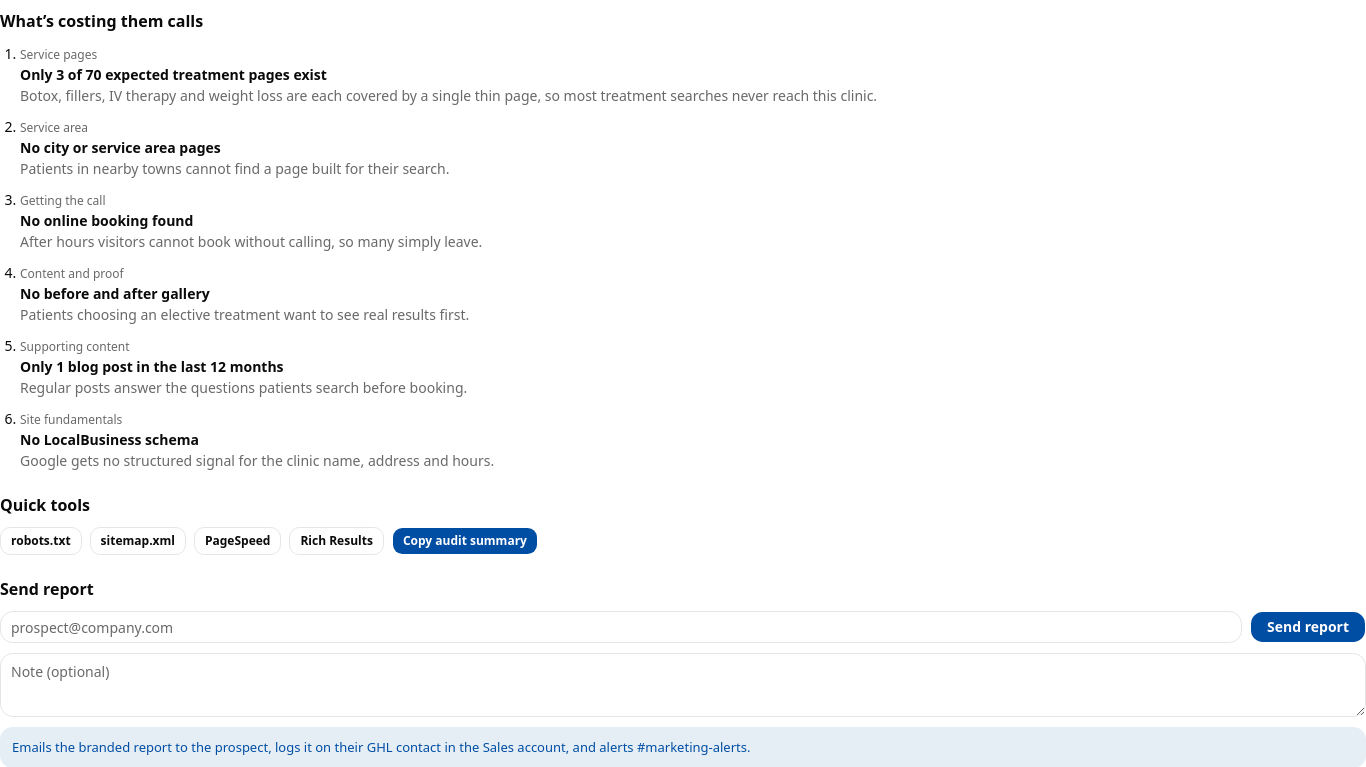
Scenario: Overview › send report: confirm, success and rejected email
(page scrolled)
In the field named "Email": (621,627) [0, 611, 1242, 643], type "bounce@clinic.com"
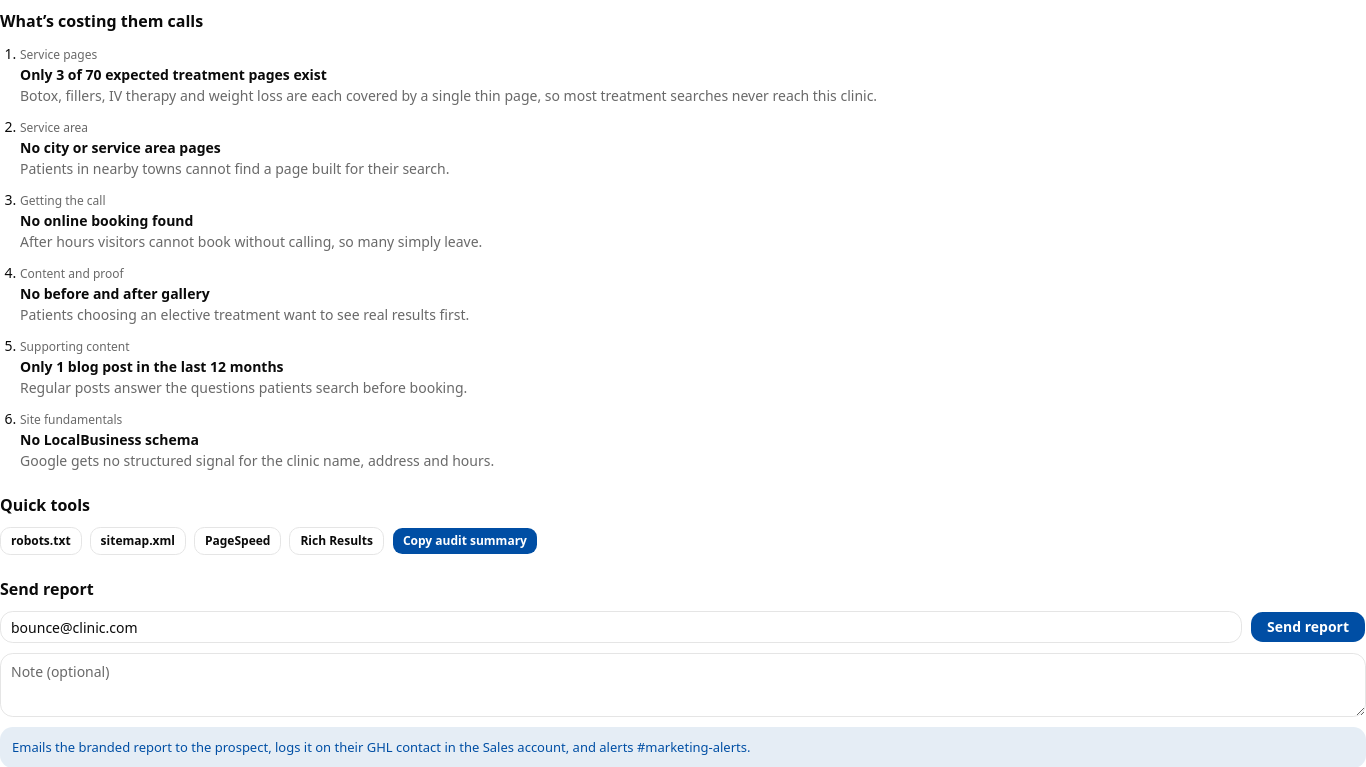
Click the button "Send report": (1308,627) [1250, 611, 1365, 643]
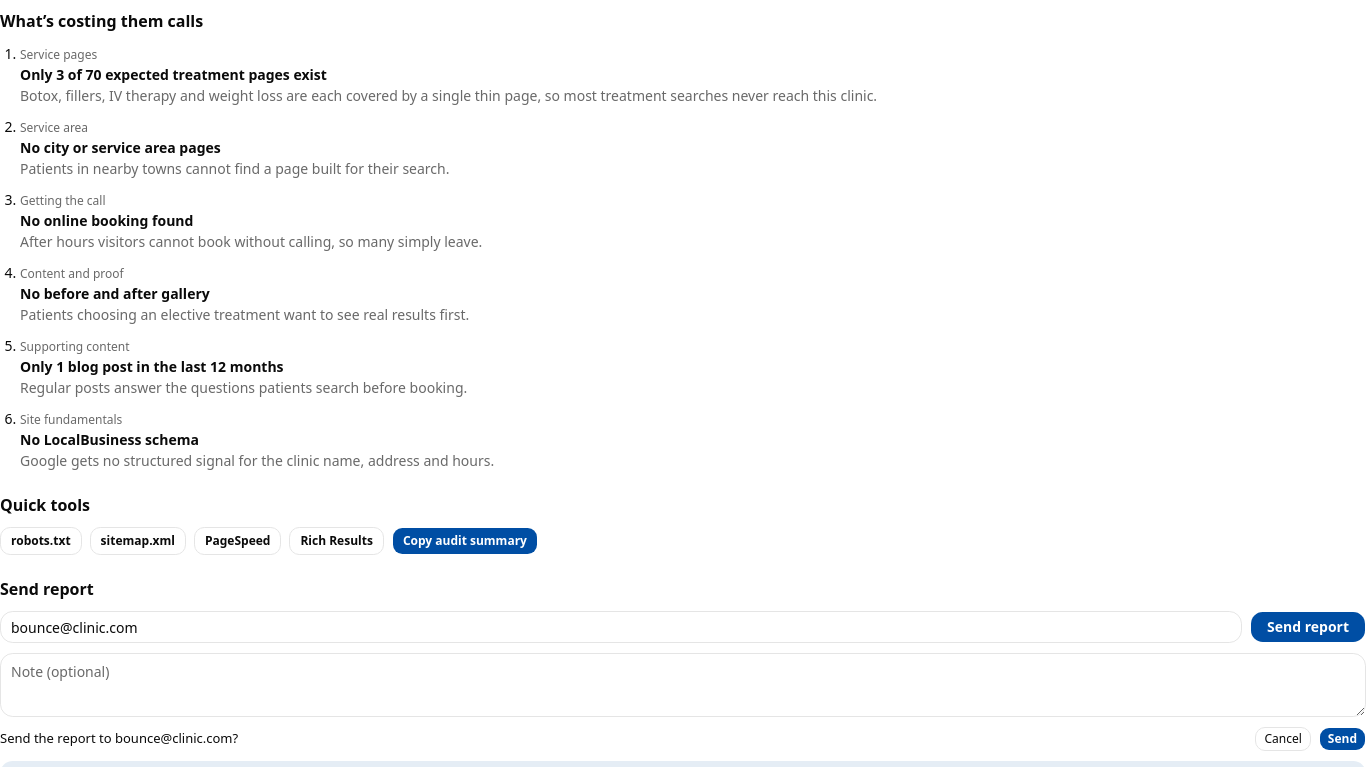
Expected: the text "Send the report to bounce@clinic.com?" is shown, [0, 729, 238, 747]
Click the button "Send": (1342,739) [1319, 727, 1365, 751]
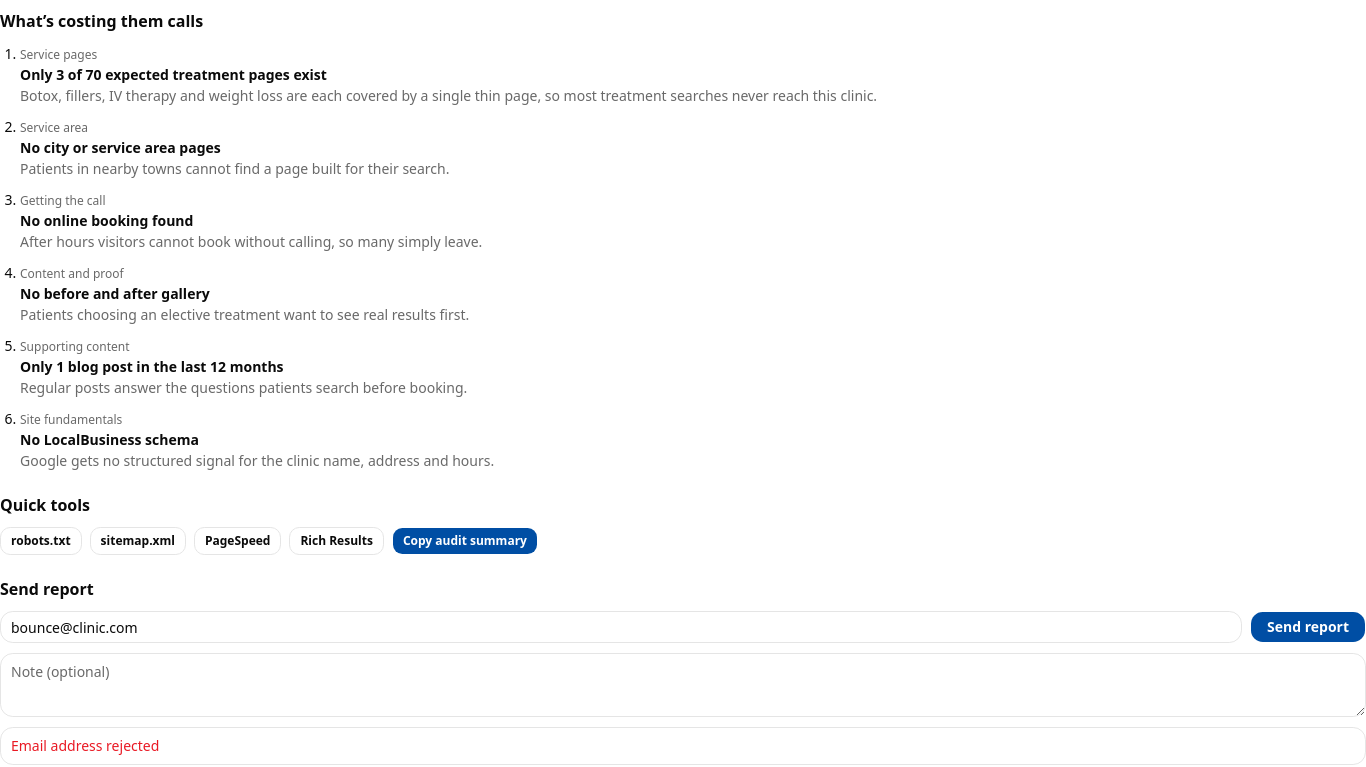
Expected: the text "Email address rejected" is shown, [11, 736, 159, 755]
Replace the text in the field named "Email" with "owner@glow.com": (621,627) [0, 611, 1242, 643]
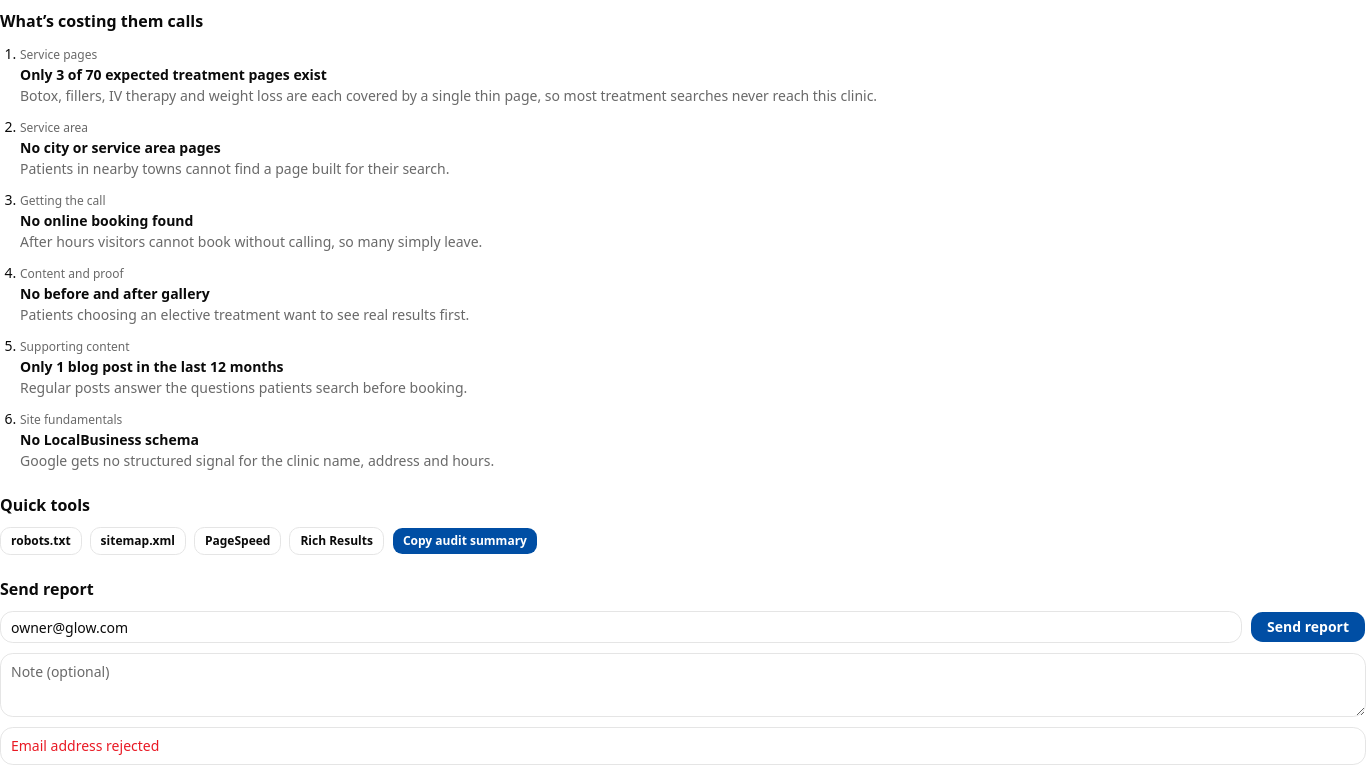
Click the button "Send report": (1308,627) [1250, 611, 1365, 643]
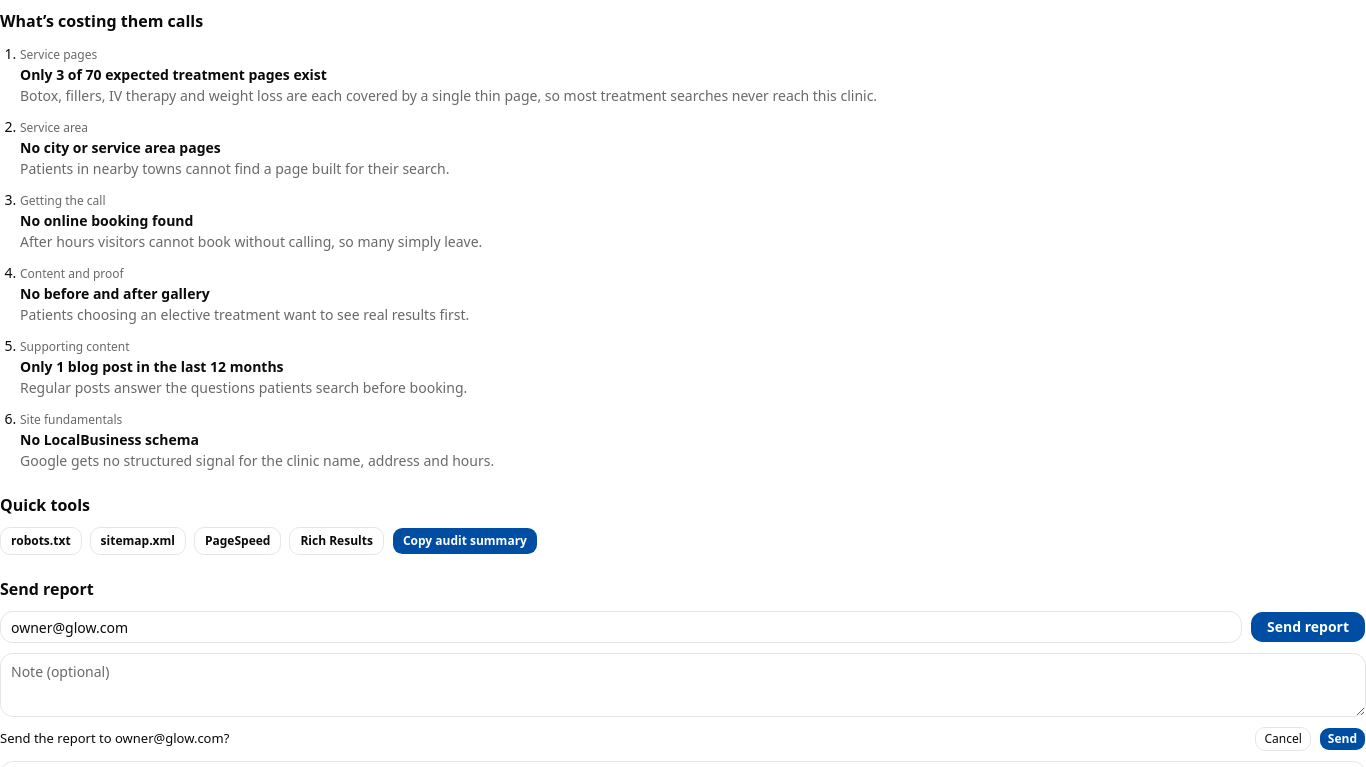
Click the button "Send": (1342,739) [1319, 727, 1365, 751]
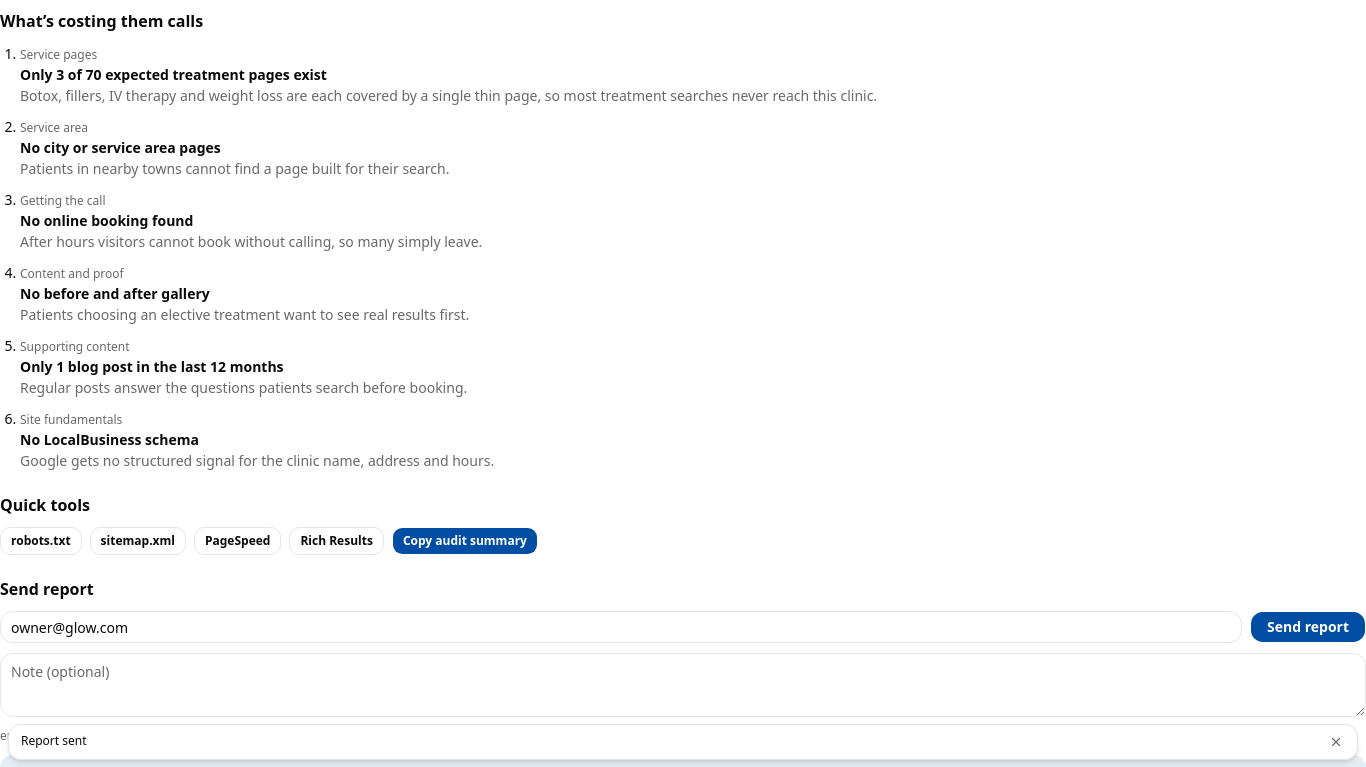
Expected: the text "email ✓ · Slack ✓ · logged to GHL contact c_glow" is shown, [0, 727, 272, 744]
